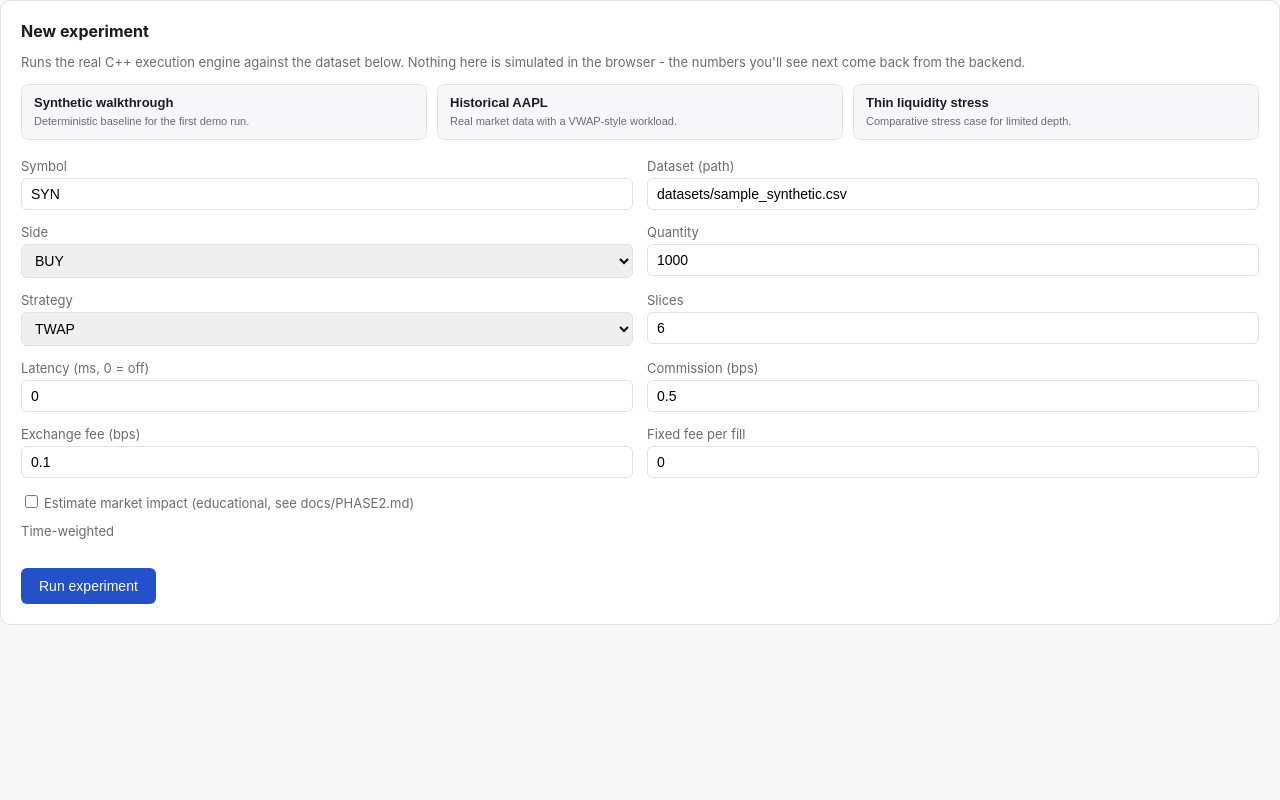
Scenario: NewExperiment › shows a backend error instead of crashing when the run fails
This screenshot has width=1280, height=800.
Click the button "Run experiment": (88, 586) [21, 568, 156, 604]
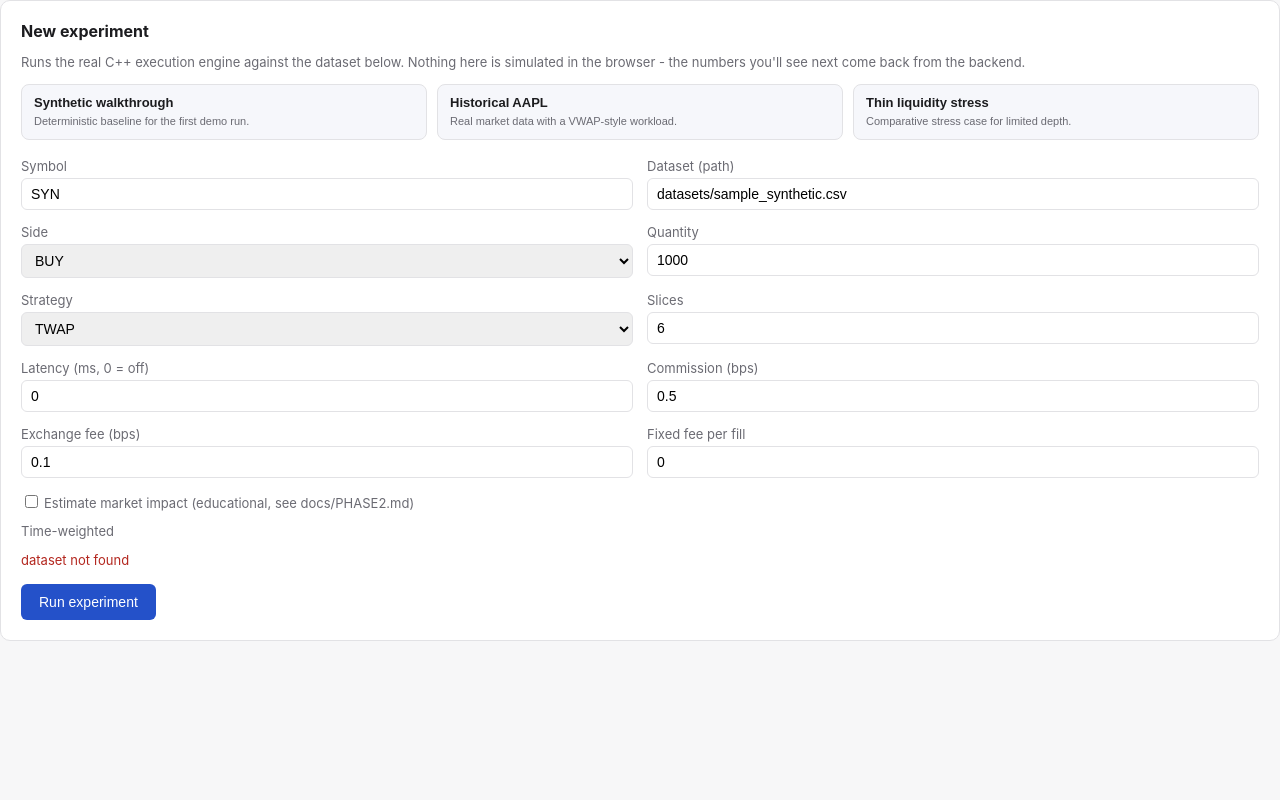
Expected: the text "dataset not found" is shown, [21, 552, 129, 568]
